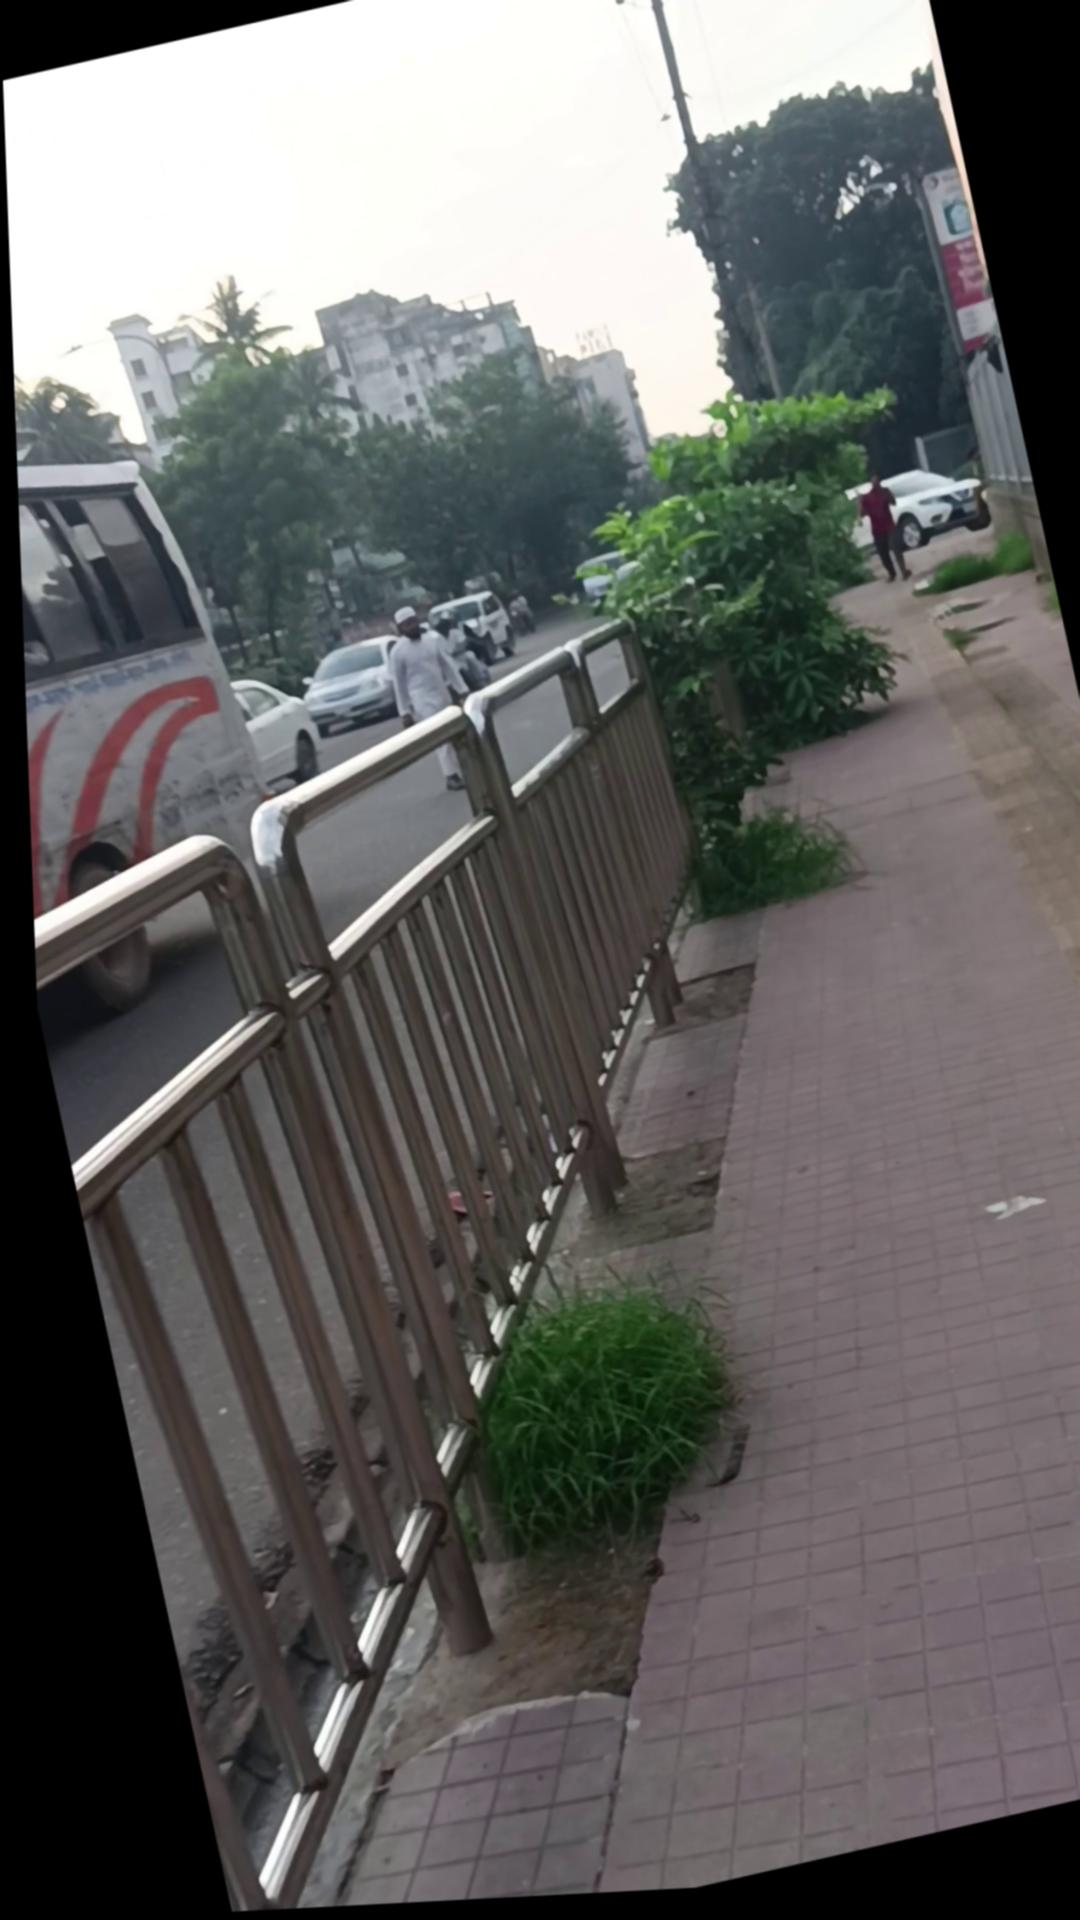Car: (839, 463, 989, 571), (222, 665, 323, 802), (286, 634, 410, 745), (564, 550, 645, 625)
Muddy road: (368, 597, 485, 804), (843, 477, 909, 597)
Stuck-water: (913, 171, 998, 371)
Traffic-sign: (12, 402, 307, 1033)
